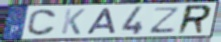4: (120, 5, 145, 37)
A: (84, 7, 117, 35)
C: (25, 8, 58, 37)
K: (59, 8, 87, 36)
R: (175, 4, 214, 36)
Z: (147, 6, 182, 35)
